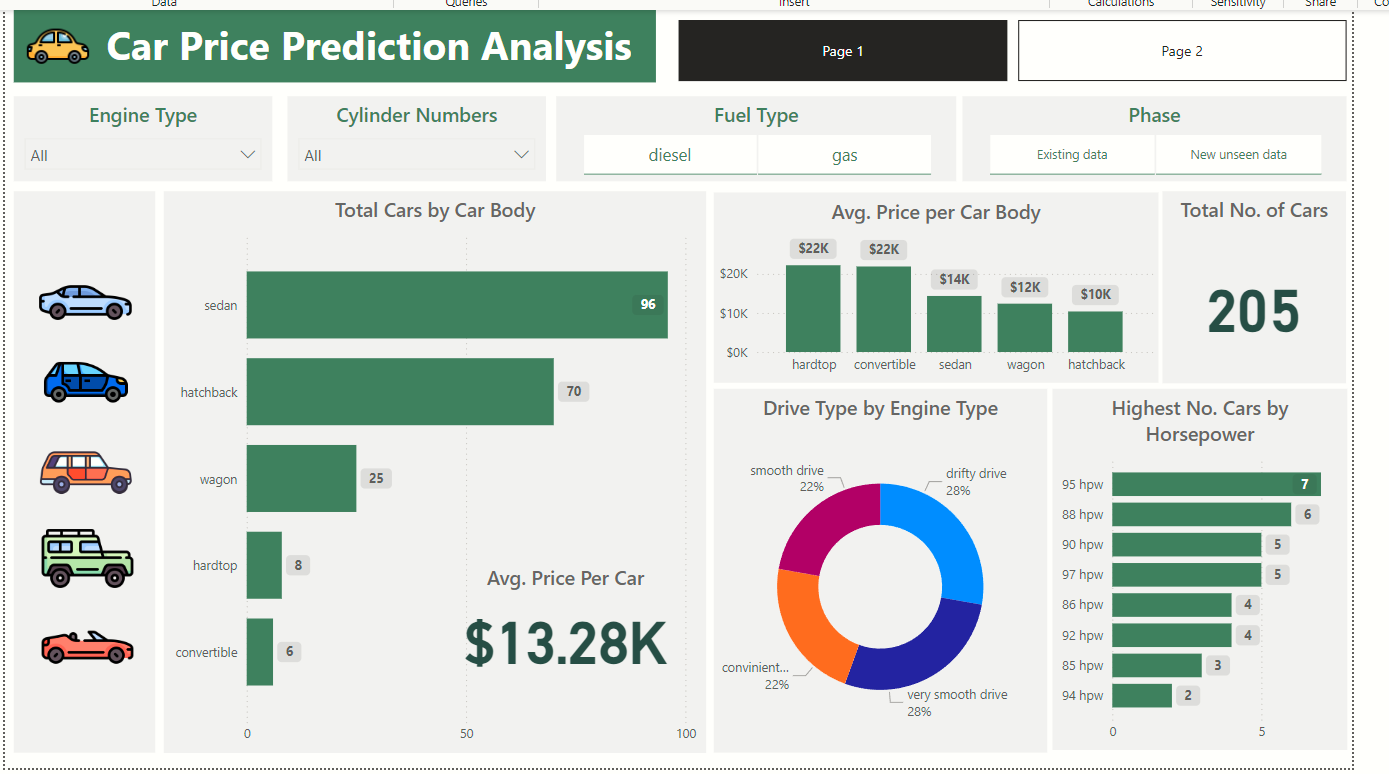

Layout of this report page (visuals, bound fields, positions):
{"tool":"powerbi","page":{"name":"Page 1","canvas":[1280,720],"ordinal":0},"visuals":[{"type":"shape","box":[8.9,0,610,68.9],"z":0},{"type":"textbox","box":[91.1,2.2,524.4,60],"z":1000},{"type":"image","box":[6.7,0,86.7,68.9],"z":2000},{"type":"slicer","title":"Engine Type","fields":{"Values":["Car Predictions Output csv.enginetype"]},"box":[8.9,82.2,245.6,81.1],"z":3000},{"type":"slicer","title":"Cylinder Numbers","fields":{"Values":["Car Predictions Output csv.Cylinder Numbers"]},"box":[267.8,82.2,245.6,81.1],"z":4000},{"type":"slicer","title":"Fuel Type","fields":{"Values":["Car Predictions Output csv.fueltype"]},"box":[523.3,82.2,380,81.1],"z":5000},{"type":"slicer","title":"Phase","fields":{"Values":["Car Predictions Output csv.Phase"]},"box":[910,82.2,364.4,81.1],"z":6000},{"type":"clusteredBarChart","title":"Total Cars by Car Body","fields":{"Category":["Car Predictions Output csv.carbody"],"Y":["CountNonNull(Car Predictions Output csv.car_ID)"]},"box":[151.1,172.2,515.6,533.3],"z":7000},{"type":"shape","box":[7.8,172.2,134.4,533.3],"z":8000},{"type":"image","box":[1,228.9,151.1,97.8],"z":9000},{"type":"image","box":[1,307.8,151.1,92.2],"z":10000},{"type":"image","box":[1.1,391.1,151.1,96.7],"z":11000},{"type":"image","box":[3.3,472.2,148.9,96.7],"z":12000},{"type":"image","box":[3.3,556.7,148.9,96.7],"z":13000},{"type":"card","title":"Avg. Price Per Car","fields":{"Values":["Avg(Car Predictions Output csv.price)"]},"box":[425.6,521.1,214.4,115.6],"z":14000},{"type":"card","title":"Total No. of Cars","fields":{"Values":["CountNonNull(Car Predictions Output csv.car_ID)"]},"box":[1100,172.2,174.4,182.2],"z":15000},{"type":"columnChart","title":"Avg. Price per Car Body","fields":{"Category":["Car Predictions Output csv.carbody"],"Y":["Avg(Car Predictions Output csv.price)"]},"box":[673.3,173.3,422.2,181.1],"z":16000},{"type":"donutChart","title":"Drive Type by Engine Type","fields":{"Category":["Car Predictions Output csv.Car Safety Feature"],"Y":["Count(Car Predictions Output csv.enginetype)"]},"box":[673.3,360,316.7,345.6],"z":17000},{"type":"barChart","title":"Highest No. Cars by Horsepower","fields":{"Y":["CountNonNull(Car Predictions Output csv.car_ID)"],"Category":["Car Predictions Output csv.Horse Power"]},"box":[994.4,360,280,343.3],"z":17001},{"type":"pageNavigator","box":[640,10,634.4,58.9],"z":17002}]}

Visuals, with their boxes on the page's 1280x720 design canvas (x1, y1, x2, y2). These are canvas units, not pixel positions in the 1389x774 screenshot, which may show the page scaled, cropped or inside an application window:
shape: x1=9 y1=0 x2=619 y2=69
textbox: x1=91 y1=2 x2=616 y2=62
image: x1=7 y1=0 x2=93 y2=69
"Engine Type" slicer: x1=9 y1=82 x2=254 y2=163
"Cylinder Numbers" slicer: x1=268 y1=82 x2=513 y2=163
"Fuel Type" slicer: x1=523 y1=82 x2=903 y2=163
"Phase" slicer: x1=910 y1=82 x2=1274 y2=163
"Total Cars by Car Body" clusteredBarChart: x1=151 y1=172 x2=667 y2=706
shape: x1=8 y1=172 x2=142 y2=706
image: x1=1 y1=229 x2=152 y2=327
image: x1=1 y1=308 x2=152 y2=400
image: x1=1 y1=391 x2=152 y2=488
image: x1=3 y1=472 x2=152 y2=569
image: x1=3 y1=557 x2=152 y2=653
"Avg. Price Per Car" card: x1=426 y1=521 x2=640 y2=637
"Total No. of Cars" card: x1=1100 y1=172 x2=1274 y2=354
"Avg. Price per Car Body" columnChart: x1=673 y1=173 x2=1096 y2=354
"Drive Type by Engine Type" donutChart: x1=673 y1=360 x2=990 y2=706
"Highest No. Cars by Horsepower" barChart: x1=994 y1=360 x2=1274 y2=703
pageNavigator: x1=640 y1=10 x2=1274 y2=69
